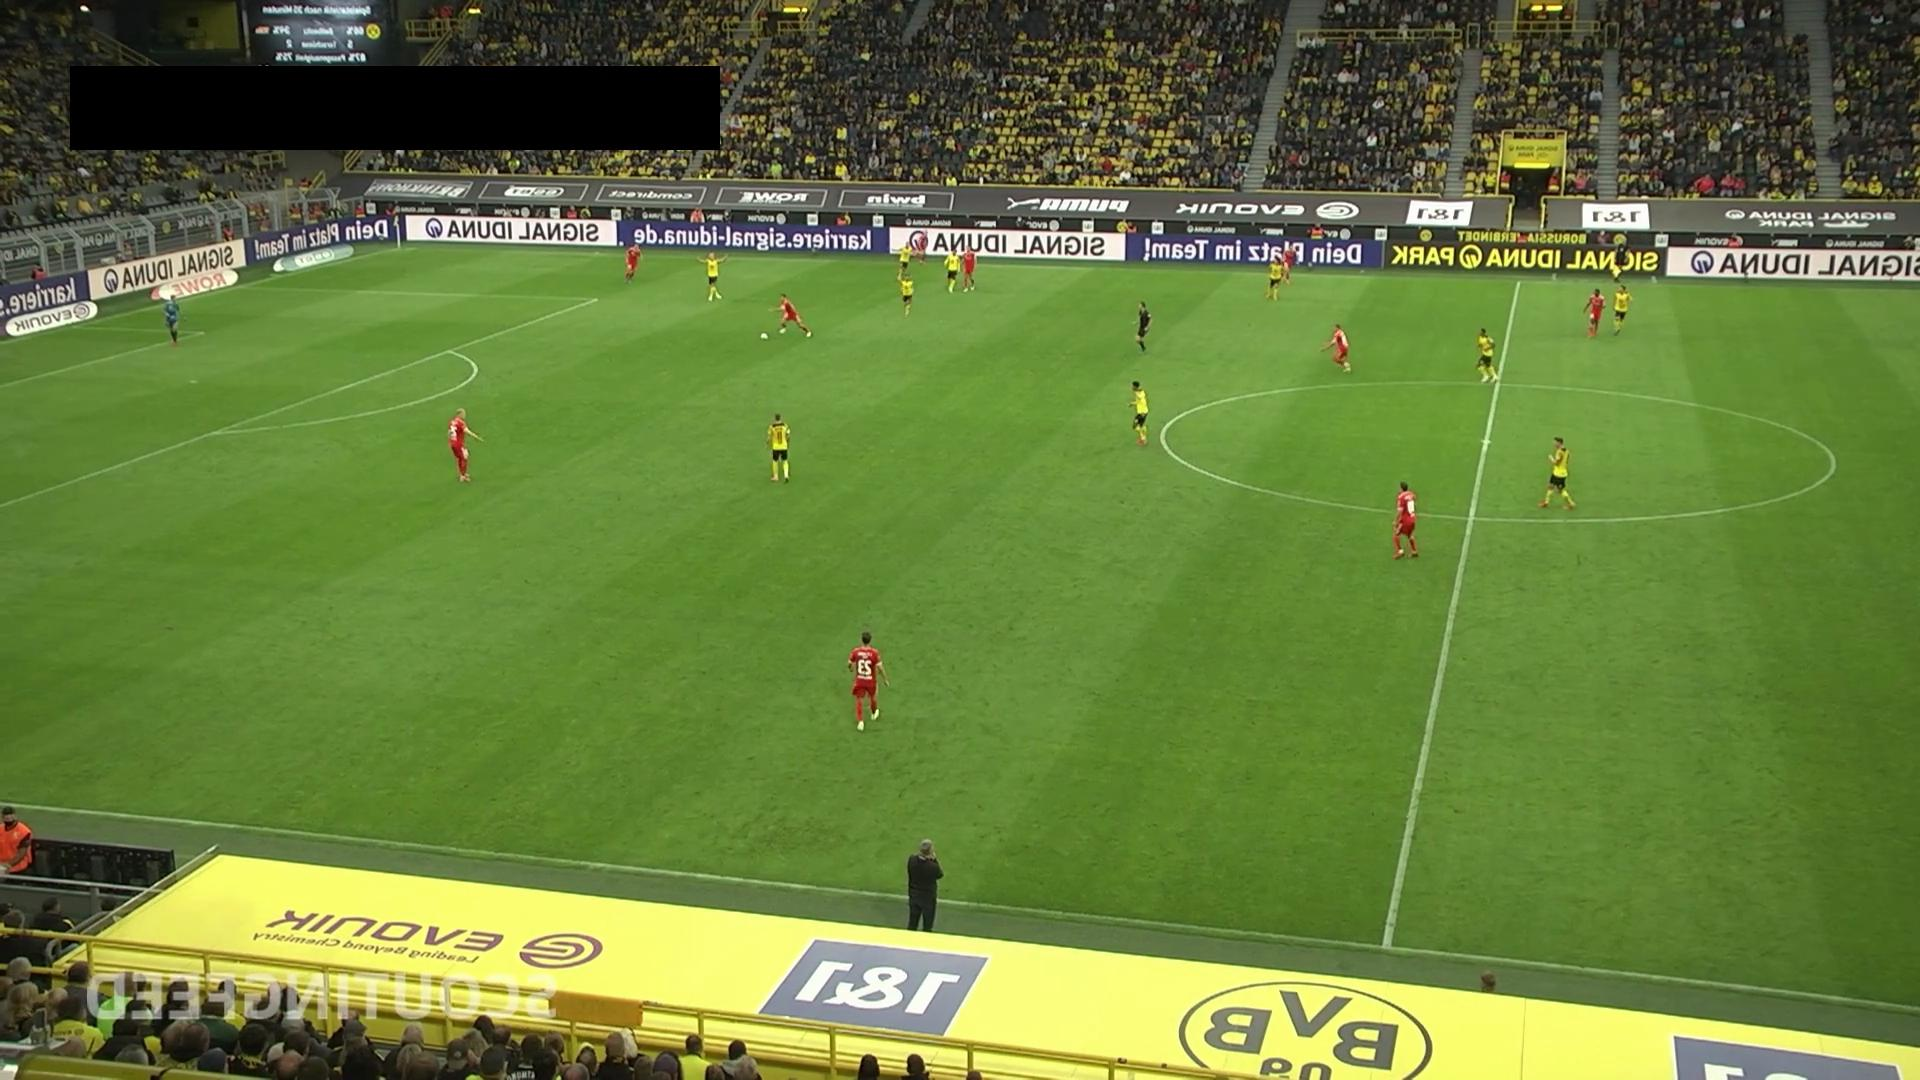ball: (759, 331, 771, 342)
goalkeeper: (164, 294, 182, 346)
player: (846, 630, 890, 732), (1537, 435, 1577, 510), (447, 408, 484, 482), (1392, 480, 1419, 560), (768, 292, 813, 338), (694, 248, 727, 302), (766, 413, 791, 483), (1318, 322, 1352, 372), (1127, 380, 1150, 446), (1475, 327, 1499, 383), (1582, 288, 1606, 338), (1612, 283, 1633, 336), (1265, 253, 1283, 301), (909, 228, 930, 267), (624, 239, 642, 284), (960, 247, 977, 292), (899, 270, 915, 317), (944, 247, 960, 293), (1281, 244, 1295, 284), (898, 245, 910, 278)
referee: (1610, 235, 1628, 285), (1135, 301, 1152, 352)
